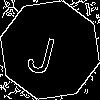J: (25, 25, 61, 76)
